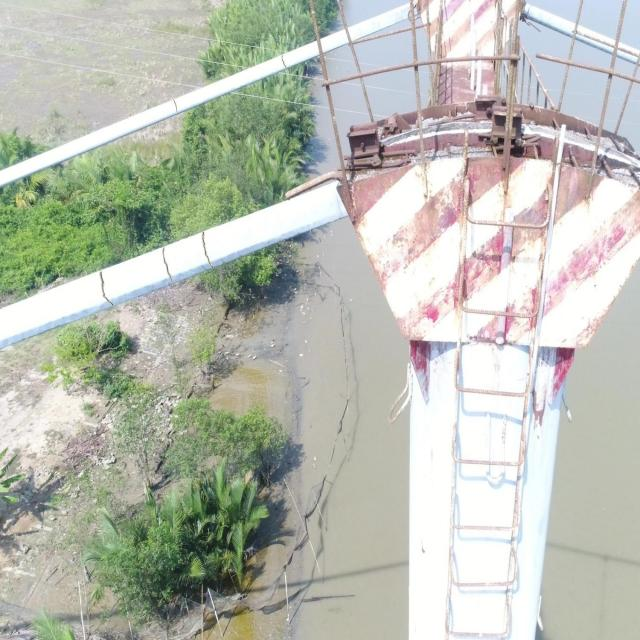crack: (201, 231, 215, 269), (99, 272, 114, 306), (162, 247, 173, 283), (172, 98, 180, 114), (280, 54, 287, 69)
